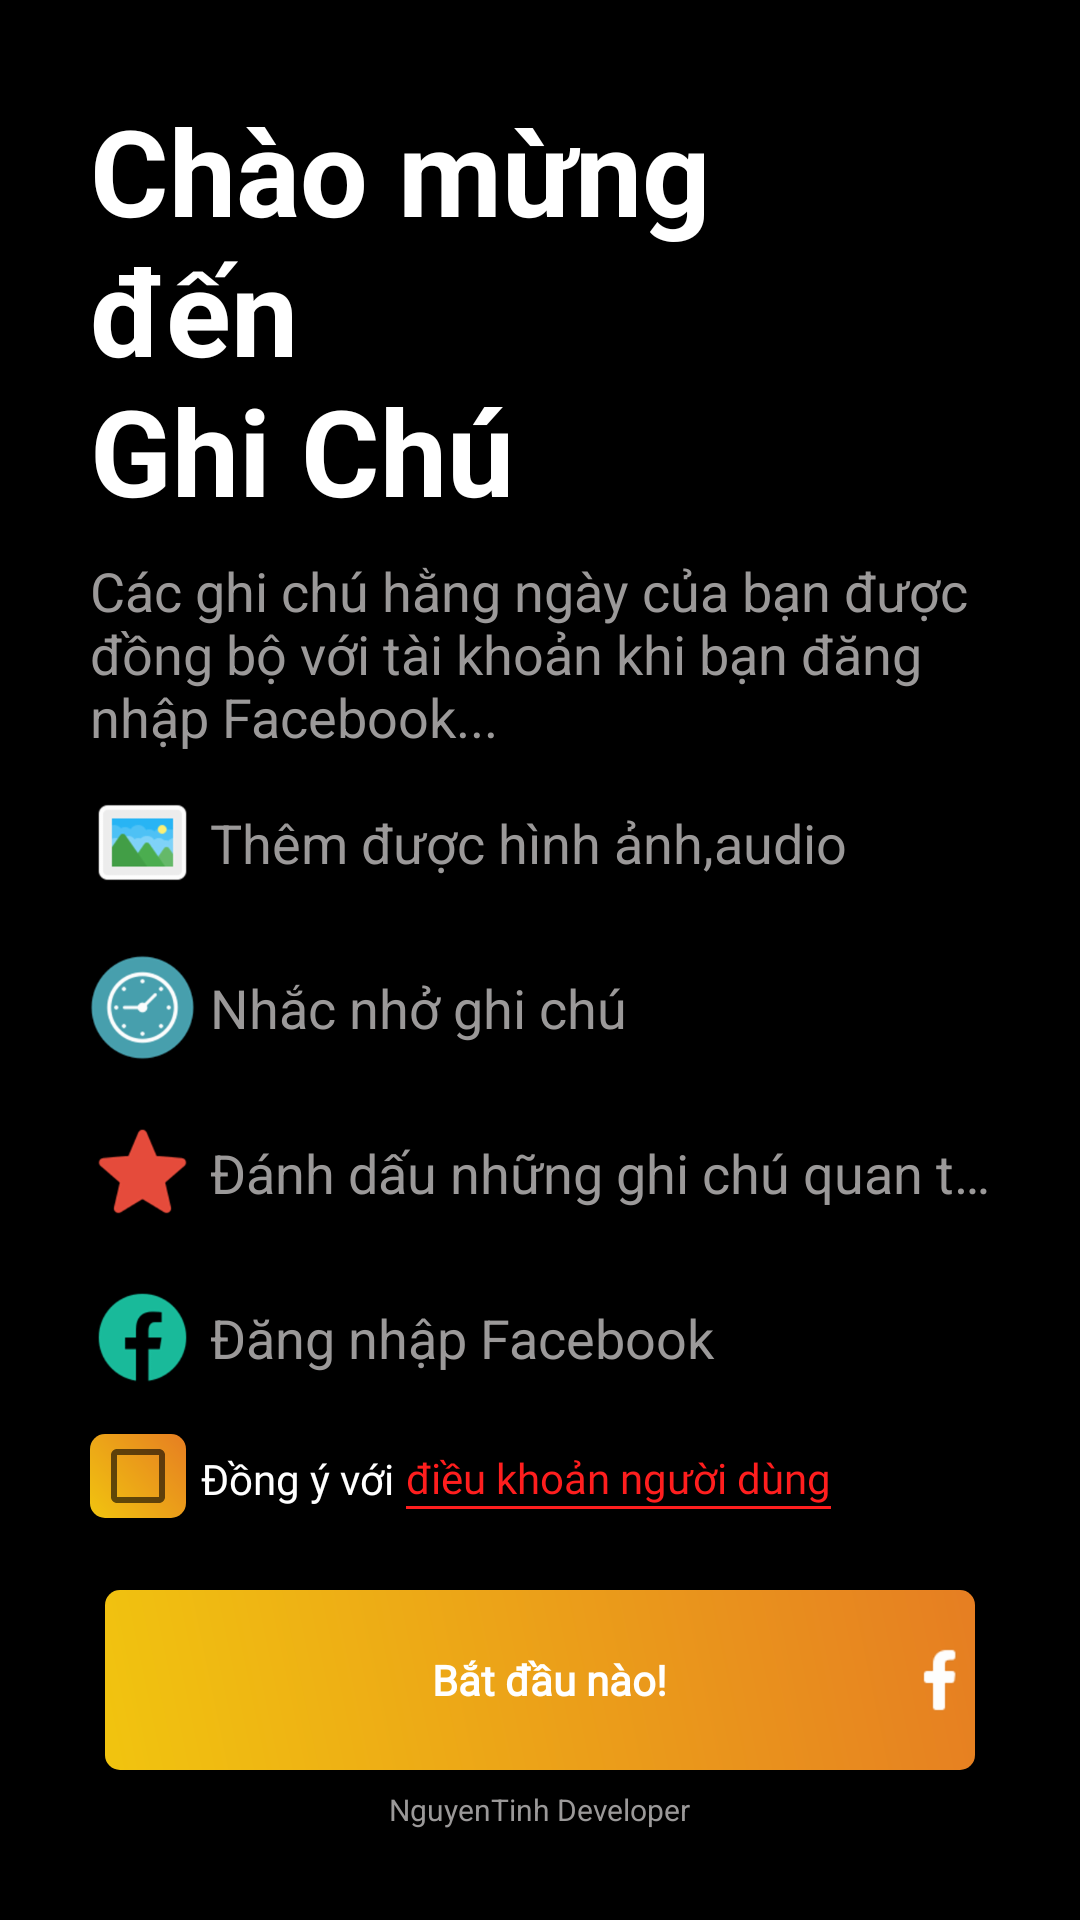

Named icons in this screenshot (1080x1920) and their centers, (x=x, y=y):
clock: (x=142, y=1007)
star yes: (x=142, y=1171)
